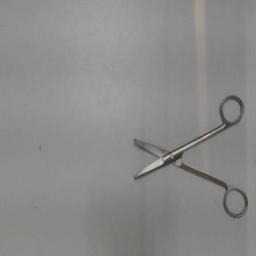Curved Mayo Scissors: (131, 91, 251, 223)
